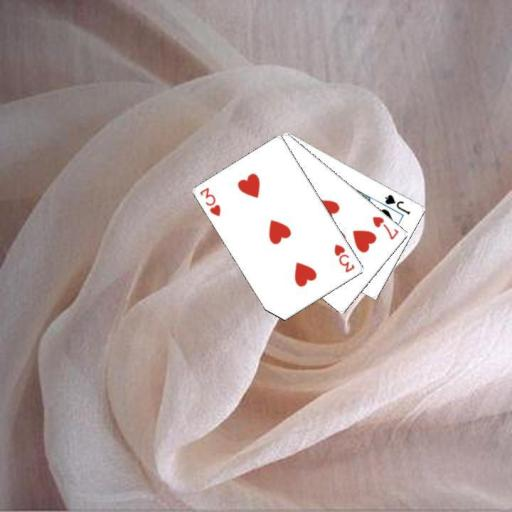3H: (197, 184, 223, 218), (332, 241, 357, 275)
7H: (369, 213, 400, 241)
JS: (382, 191, 412, 216)
